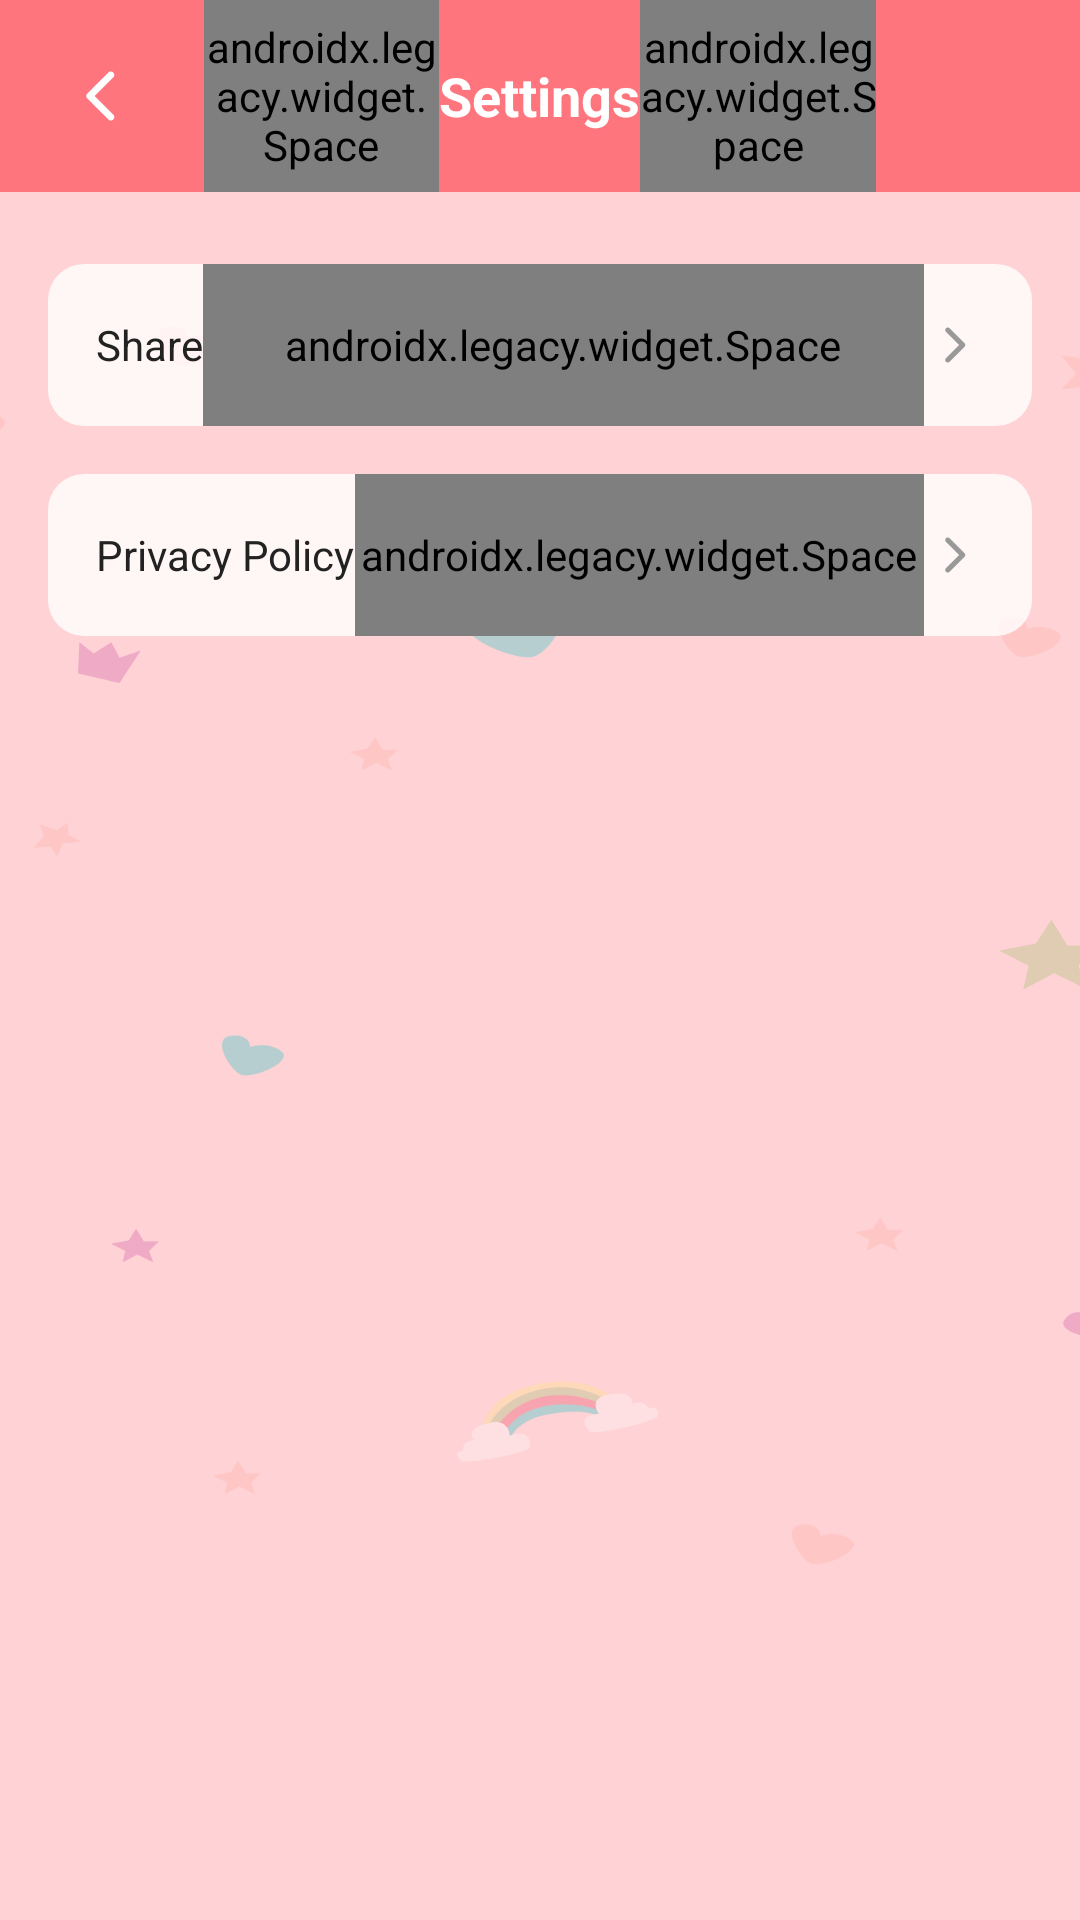

Icons on this 1080 x 1920 Android screen, each with the point to tap as (x,y):
account next: (955,345), (955,555)
back: (102,96)
